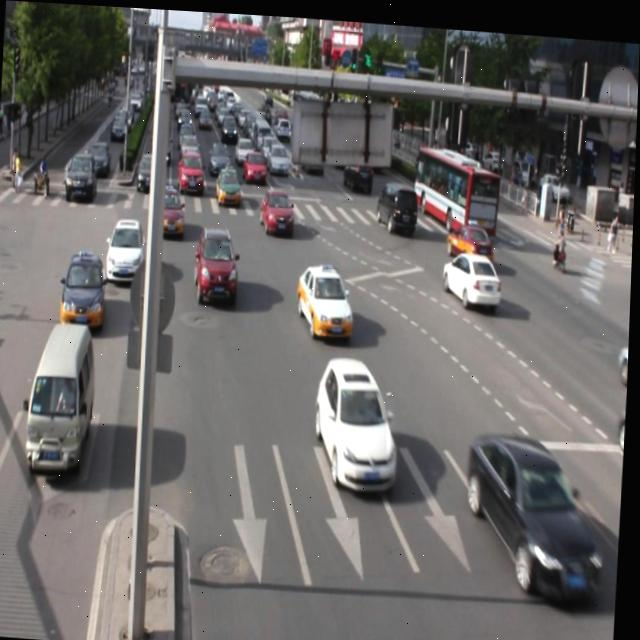car: (465, 420, 610, 597), (315, 351, 404, 488), (296, 258, 357, 335), (441, 243, 503, 304), (196, 221, 242, 303), (62, 249, 108, 329), (106, 213, 148, 283), (445, 214, 495, 260), (156, 183, 187, 235)
truck: (27, 316, 101, 476)
